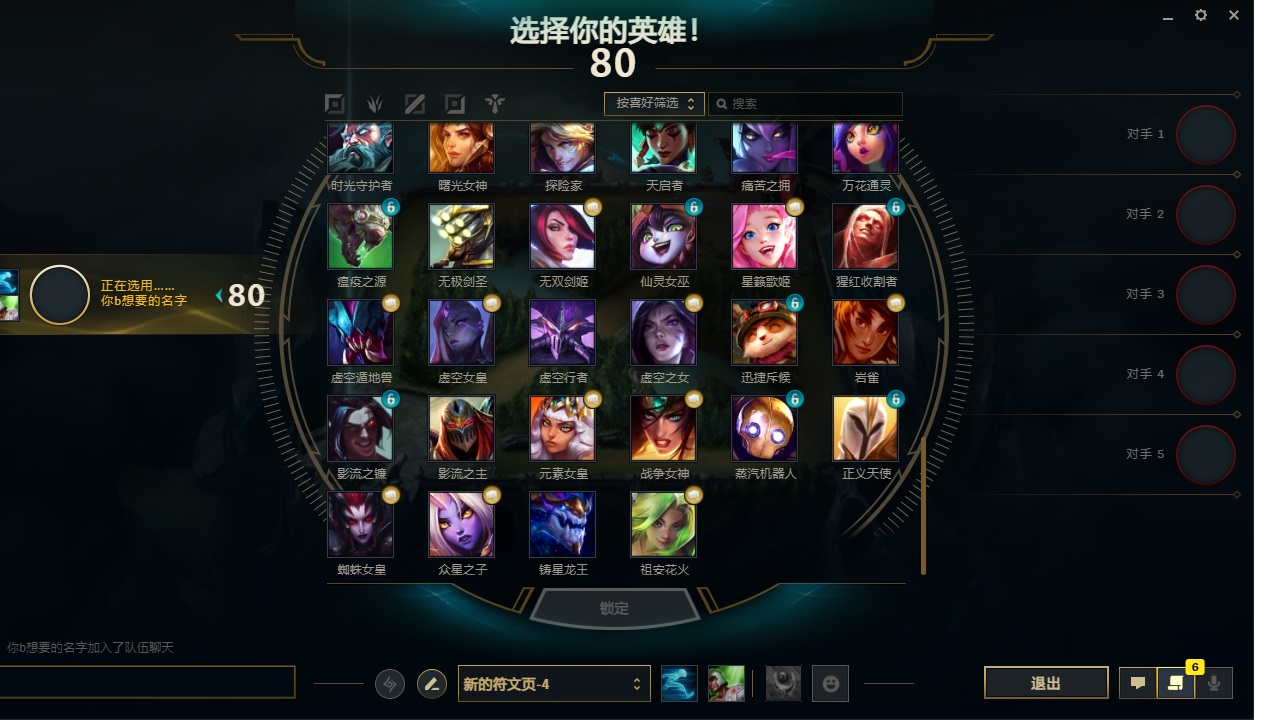HSSD: (509, 580, 717, 637)
XL: (437, 87, 472, 119)
